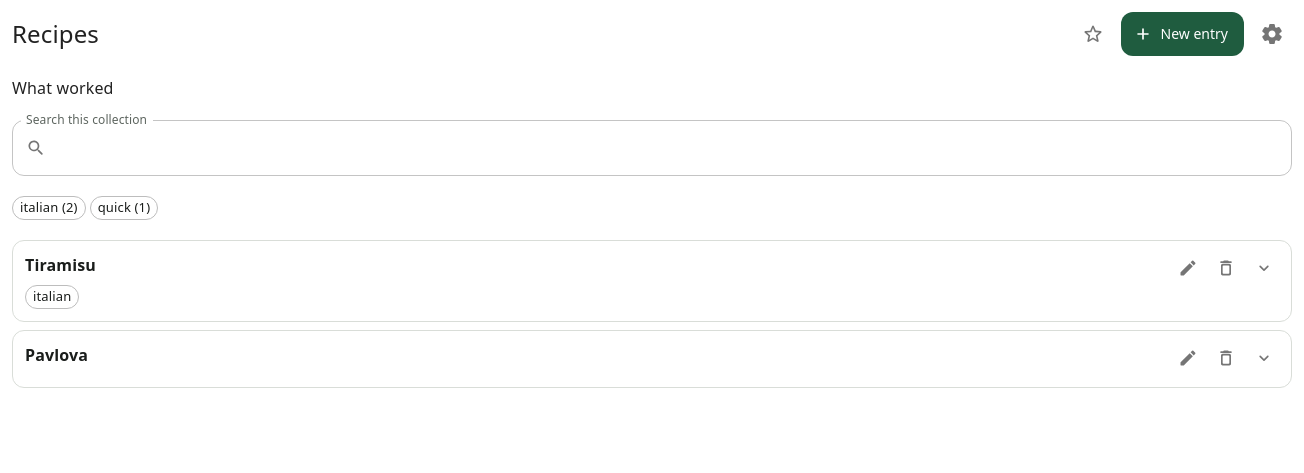
Test case: CollectionDetailPage › opens one entry at a time
The width and height of the screenshot is (1304, 473).
Expected: the text "Tiramisu" is shown, top-left (25, 254), bottom-right (96, 276)
Click the button named "Open Tiramisu" at (1264, 268), box top-left (1249, 253), bottom-right (1279, 283)
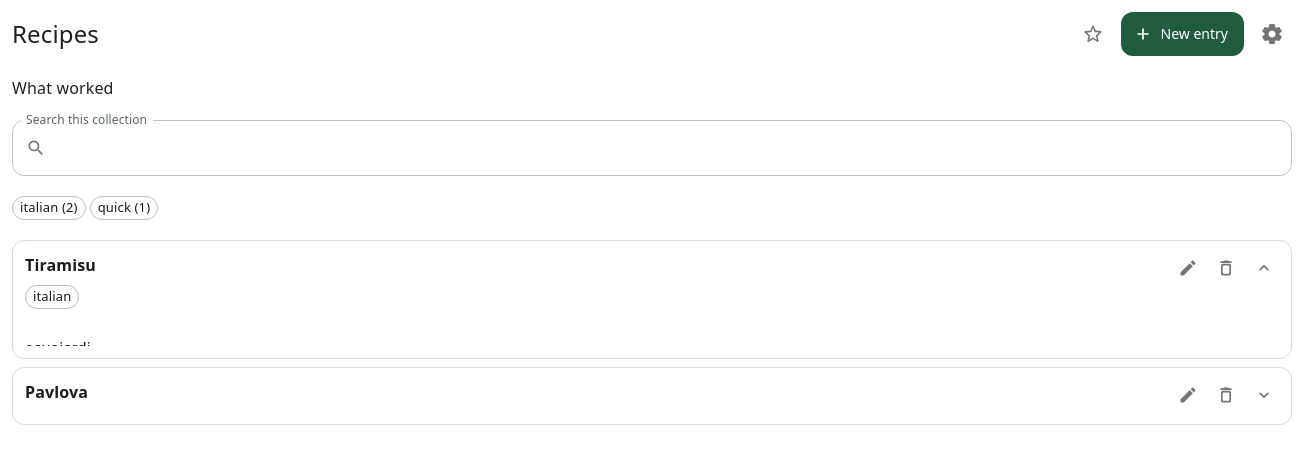
Click the button named "Open Pavlova" at (1264, 395), box top-left (1249, 380), bottom-right (1279, 410)
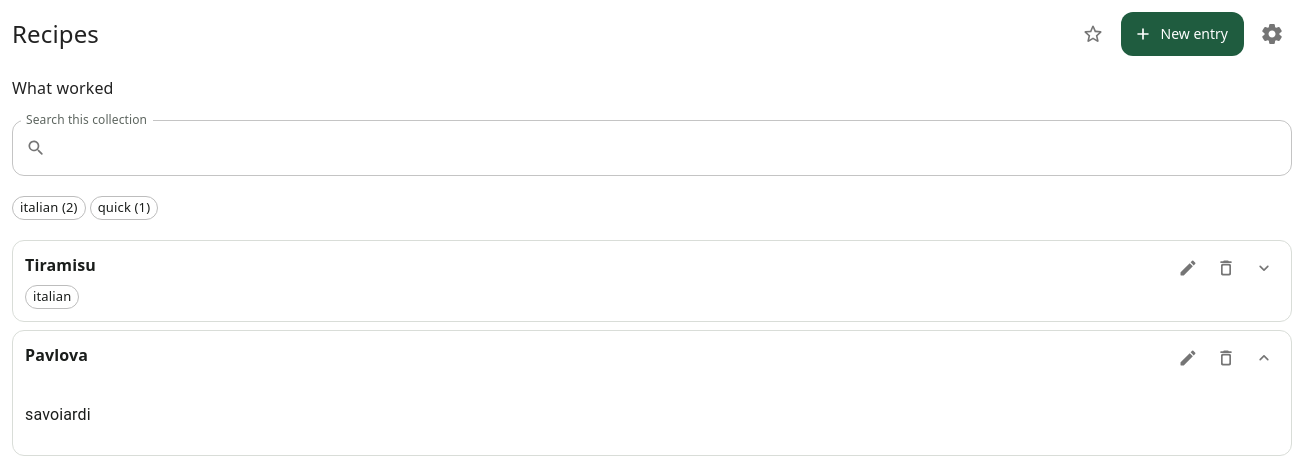
Expected: the button named "Open Tiramisu" is collapsed, top-left (1249, 253), bottom-right (1279, 283)
